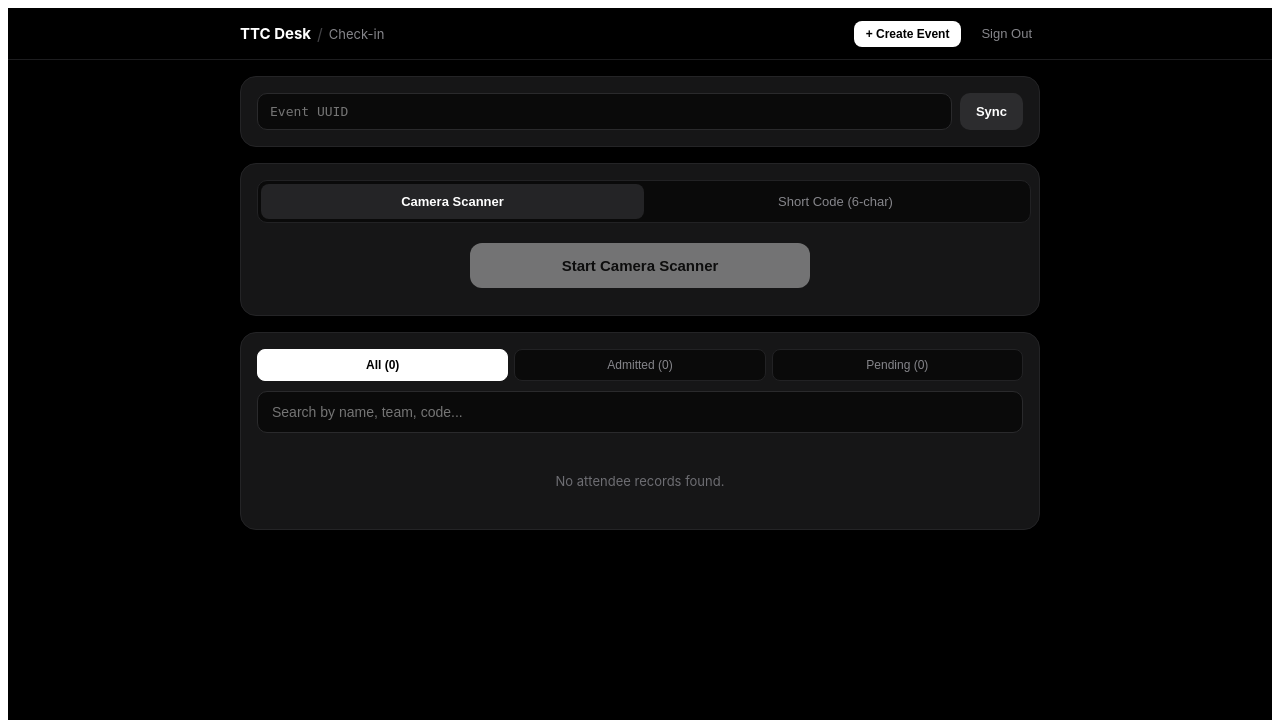
Test: AttendanceDashboard Regression Tests › fetches and displays summary and attendee list for an event
This screenshot has width=1280, height=720.
Type "event-123" into the field with placeholder "Event UUID". click: (604, 112)
box: [257, 93, 952, 130]
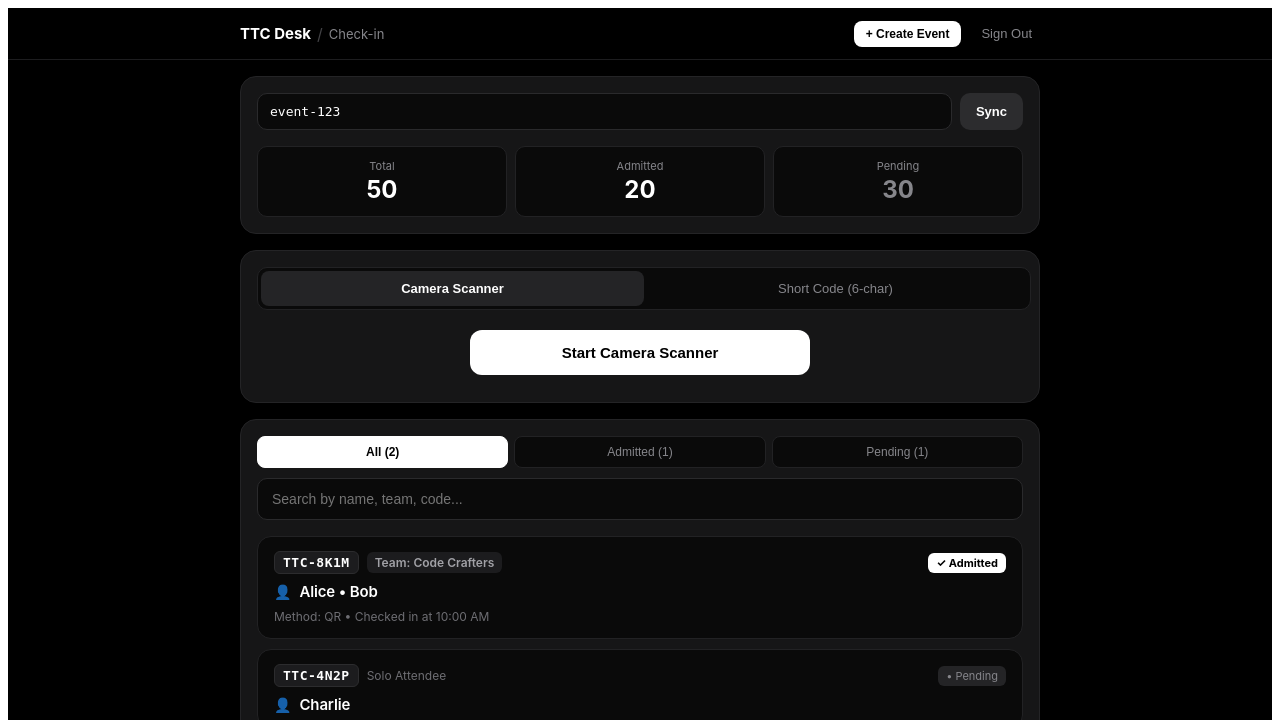
Now the text "50" is shown, box [366, 175, 398, 204]
Now the text "20" is shown, box [624, 175, 656, 204]
Now the text "30" is shown, box [882, 175, 914, 204]
